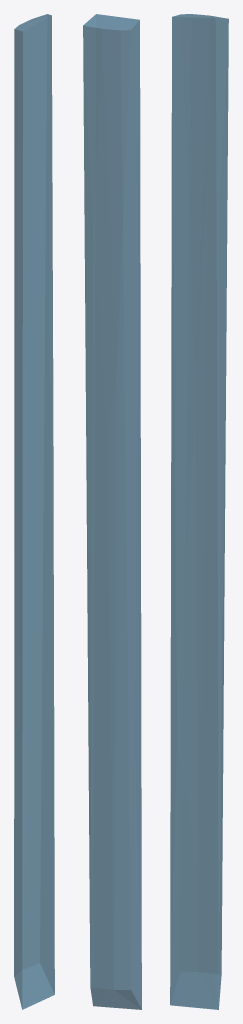
3 renders of one model, left to right at view 1: azimuth 30°, elevation 25°; view 2: azimuth 150°, elevation 25°; view 3: azimuth 330°, elevation 25°, orthographic.
Visible parts, largest first — view 1: Shape_IndexedFaceSet.029_Shape_IndexedFaceSet.4970; view 2: Shape_IndexedFaceSet.029_Shape_IndexedFaceSet.4970; view 3: Shape_IndexedFaceSet.029_Shape_IndexedFaceSet.4970.
Part boxes in pixels (<box>): Shape_IndexedFaceSet.029_Shape_IndexedFaceSet.4970: <box>14,14,54,1009</box>; Shape_IndexedFaceSet.029_Shape_IndexedFaceSet.4970: <box>83,14,141,1009</box>; Shape_IndexedFaceSet.029_Shape_IndexedFaceSet.4970: <box>170,14,228,1009</box>.
Bounding box in the file's own units: 0.07 × 1.58 × 0.0486.
